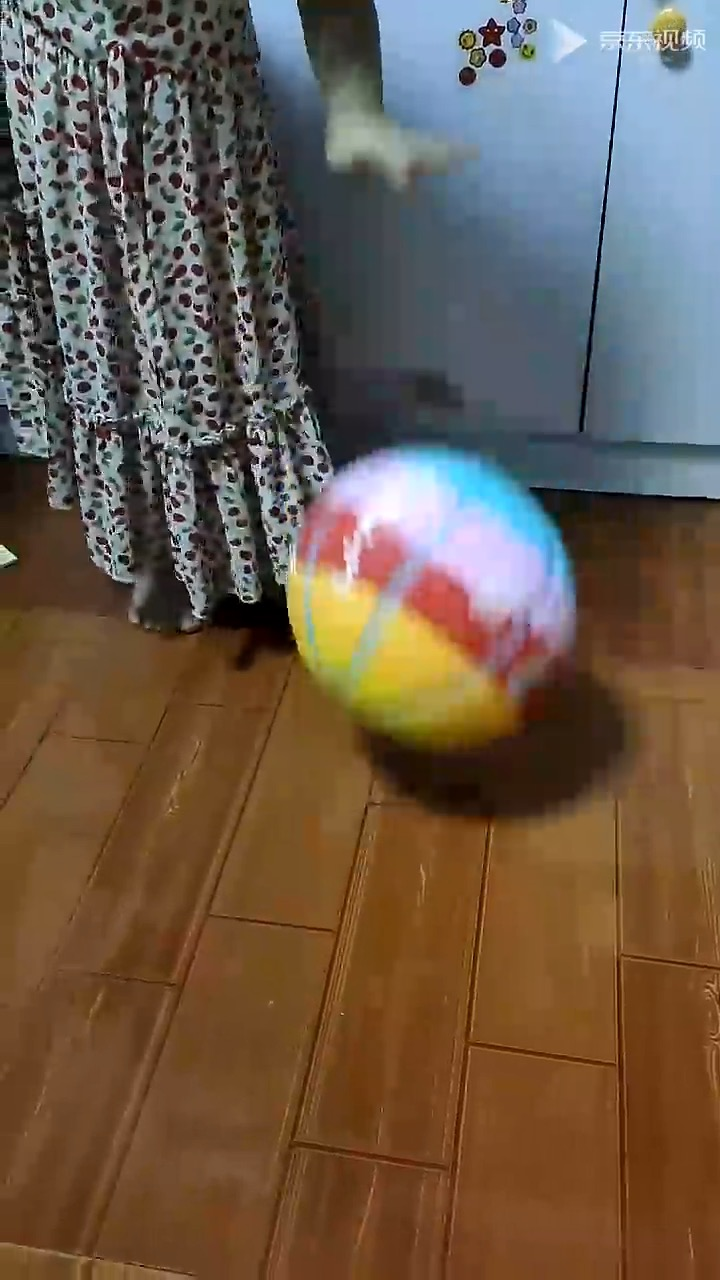ball: (283, 438, 583, 761)
